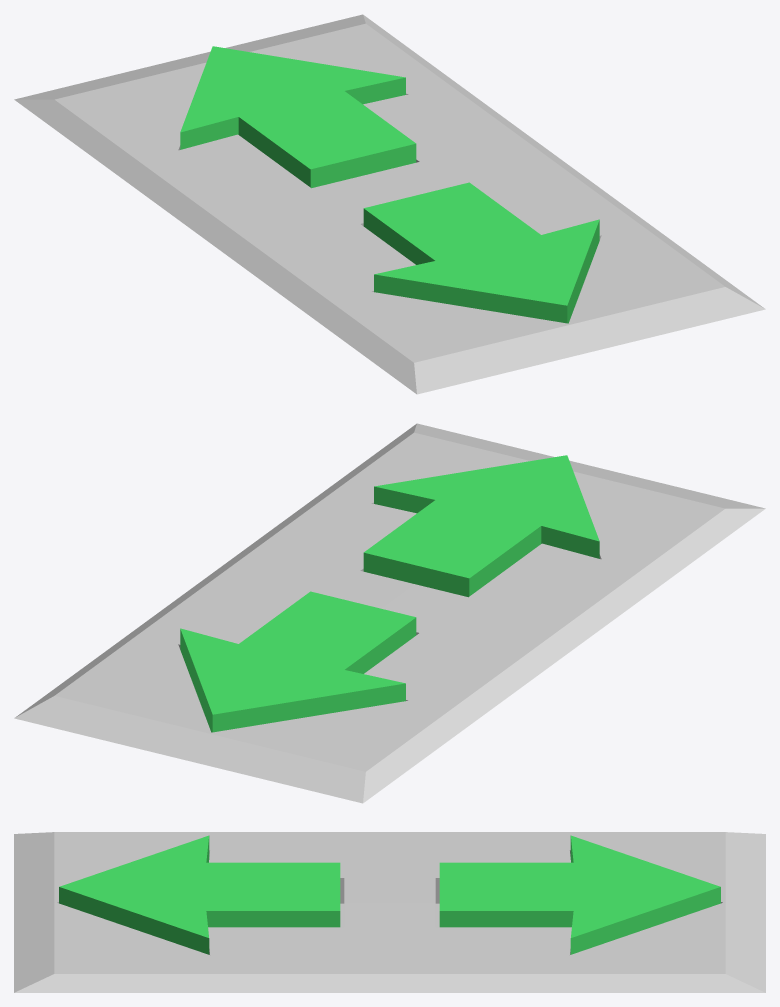
Rendered from props.fbx_B5.fbx.
3 views of the same model, one above another, from view 1: azimuth 30°, elevation 25°; view 2: azimuth 150°, elevation 25°; view 3: azimuth 270°, elevation 25° (orthographic). The views are drawn at different scales.
Parts seen in each view (by area): view 1: Plane.003, Cube.001, Cube.002; view 2: Plane.003, Cube.002, Cube.001; view 3: Plane.003, Cube.001, Cube.002.
Part boxes in pixels (box(x1,y1,x2,y2)): Plane.003: box(14, 14, 765, 394); Cube.001: box(180, 46, 416, 188); Cube.002: box(363, 182, 599, 323); Plane.003: box(14, 423, 765, 803); Cube.002: box(363, 455, 599, 597); Cube.001: box(180, 591, 416, 732); Plane.003: box(14, 832, 765, 992); Cube.001: box(439, 835, 720, 954); Cube.002: box(59, 835, 340, 954).
Size of the model in its own units: 100 by 12.21 by 200.
